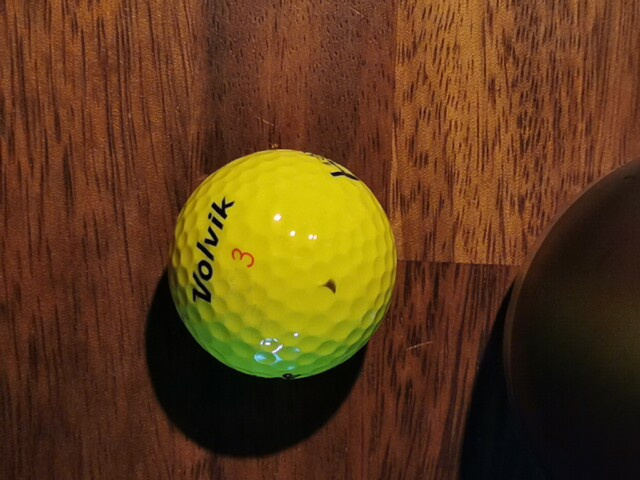Ball: (167, 149, 397, 380)
Volvik: (192, 196, 235, 303)
